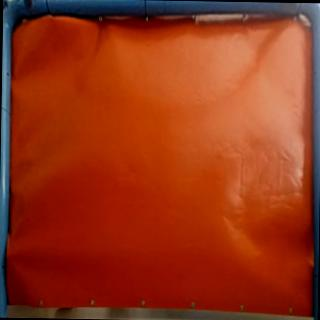Hit-hRxx: (8, 246, 24, 262)
